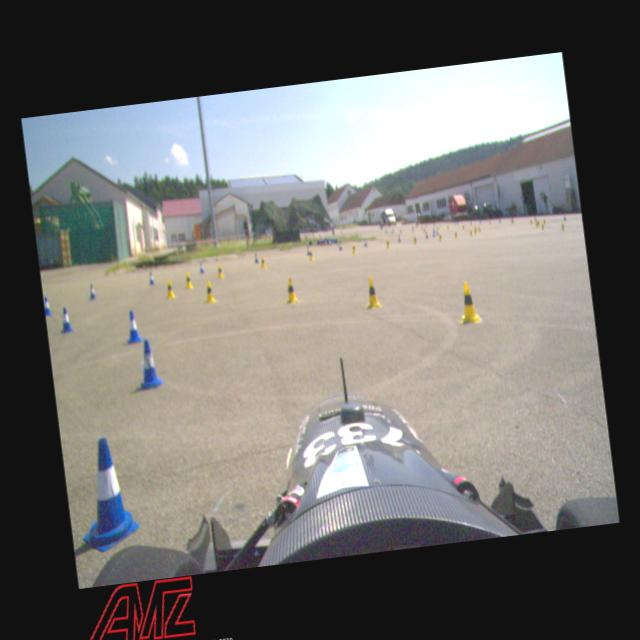blue_cone: (66, 432, 140, 556), (132, 337, 165, 392), (124, 308, 142, 344), (58, 304, 72, 334), (42, 293, 52, 317), (86, 280, 96, 300), (146, 270, 154, 285), (197, 260, 204, 274), (253, 252, 259, 264), (396, 234, 402, 242), (306, 245, 310, 255), (338, 242, 342, 250), (424, 231, 428, 238), (364, 240, 367, 247)
yellow_cone: (456, 281, 480, 325), (362, 276, 382, 308), (283, 276, 298, 304), (202, 280, 215, 304), (163, 276, 176, 299), (182, 270, 192, 289), (258, 254, 266, 268), (216, 264, 223, 278), (308, 248, 314, 260), (384, 238, 390, 248), (560, 220, 566, 230), (412, 234, 418, 243), (351, 242, 356, 252), (452, 230, 458, 238), (468, 228, 473, 237), (540, 220, 544, 230), (438, 233, 442, 241)
